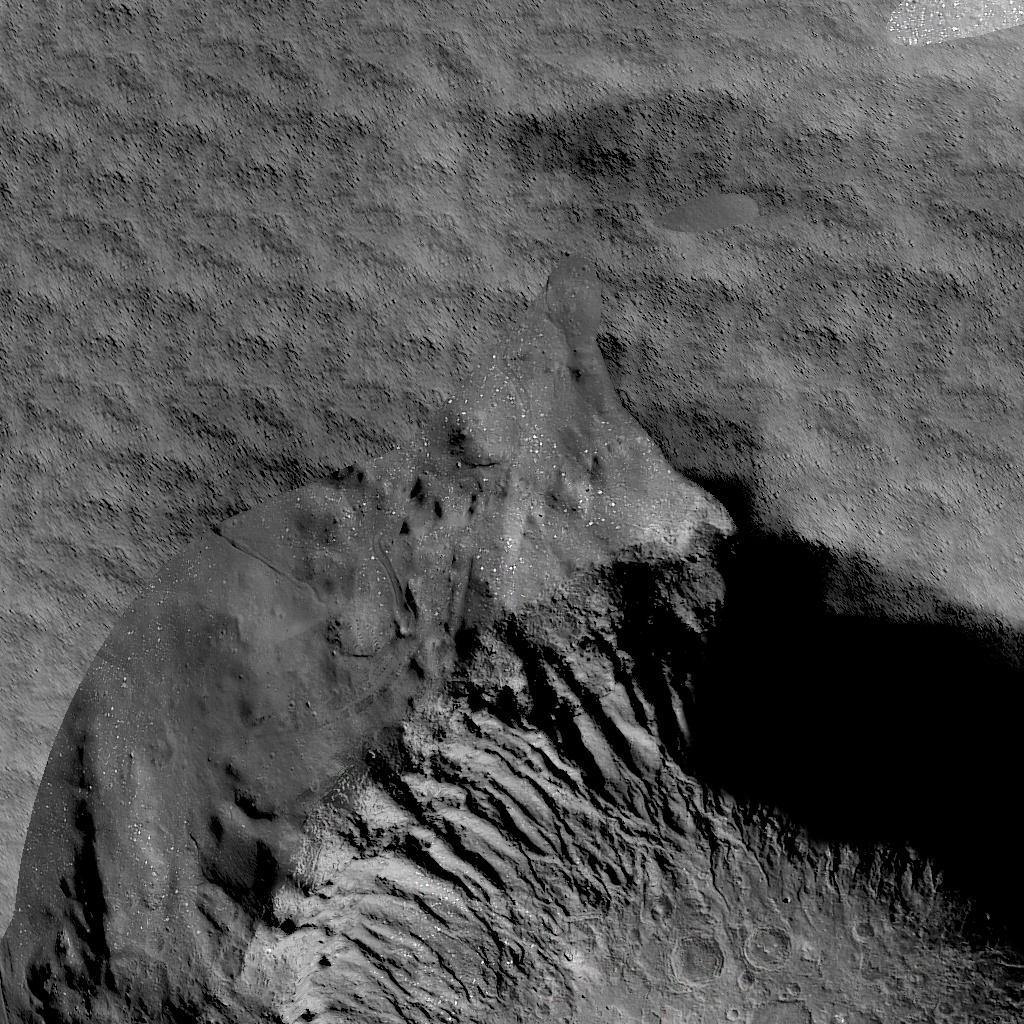Crater: (0, 450, 1024, 1024)
Plan surface: (0, 0, 1024, 438)
